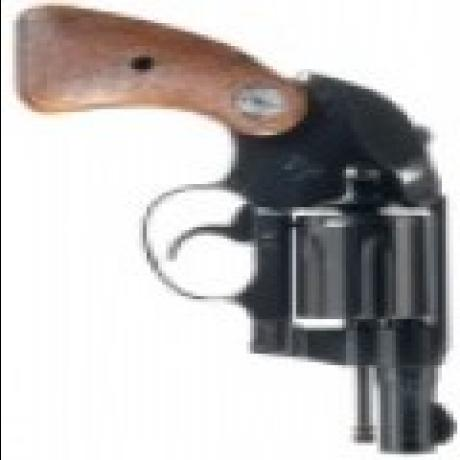weapon: (12, 12, 460, 460)
